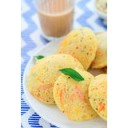idly: (31, 54, 82, 103), (54, 72, 99, 121), (58, 29, 94, 68), (89, 74, 108, 122), (89, 29, 107, 68)
